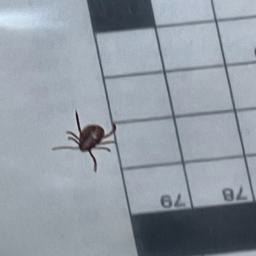Dermacentor variabilis: (53, 107, 120, 175)
